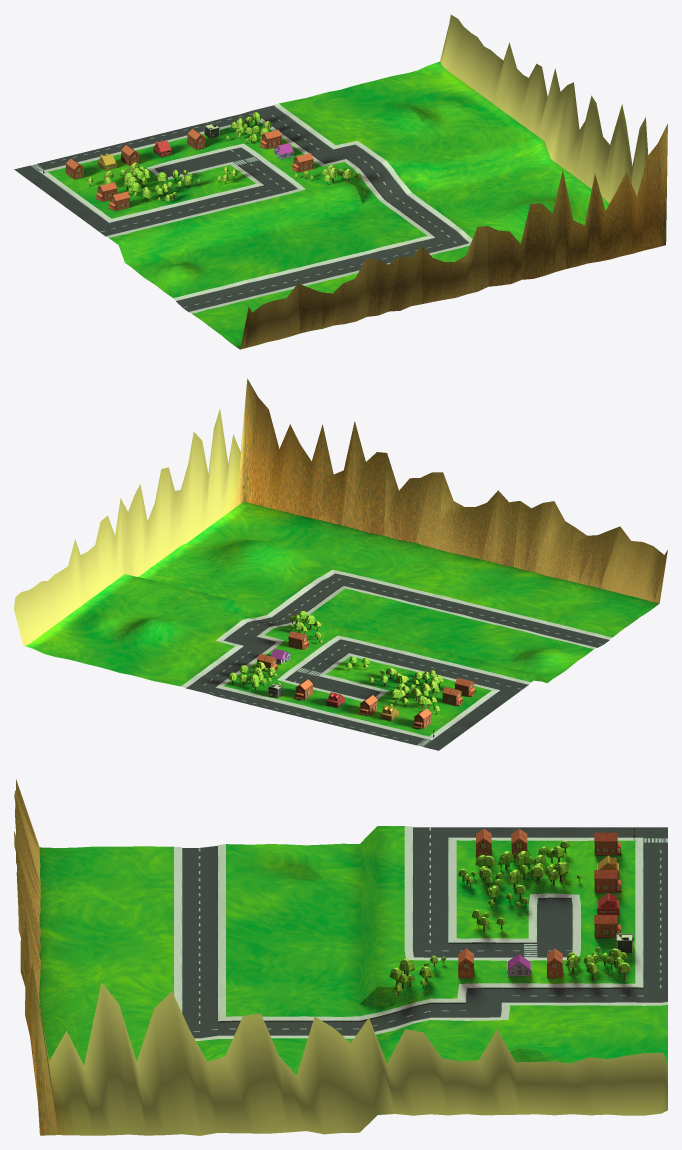
Rendered from city_se.obj.
3 renders of one model, top to bottom at view 1: azimuth 30°, elevation 25°; view 2: azimuth 150°, elevation 25°; view 3: azimuth 270°, elevation 25°, orthographic. The views are drawn at different scales.
Bounding box in the file's own units: 473 × 131 × 442.
